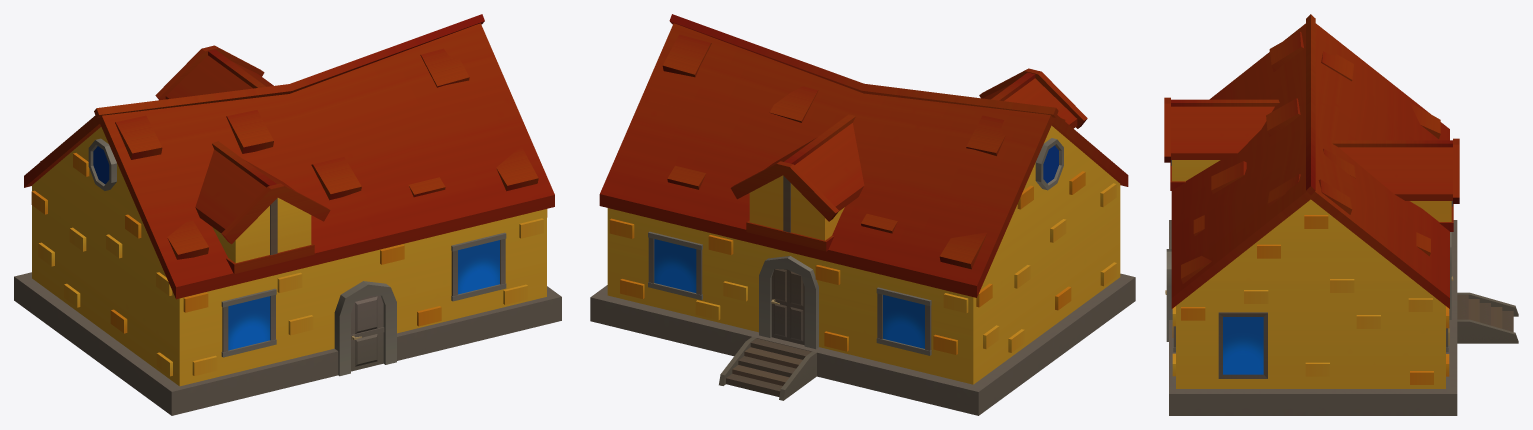
Rendered from SM_House_3.FBX.
3 renders of one model, left to right at view 1: azimuth 30°, elevation 25°; view 2: azimuth 150°, elevation 25°; view 3: azimuth 270°, elevation 25°, orthographic. The views are drawn at different scales.
Parts seen in each view (by area): view 1: SM_House_3; view 2: SM_House_3; view 3: SM_House_3.
Boxes of the visible parts, x1=… form: SM_House_3: x1=14, y1=14, x2=561, y2=415; SM_House_3: x1=590, y1=14, x2=1135, y2=415; SM_House_3: x1=1164, y1=14, x2=1518, y2=415.
Size of what is drawn, in the model's own units: 1189 by 1023 by 730.
